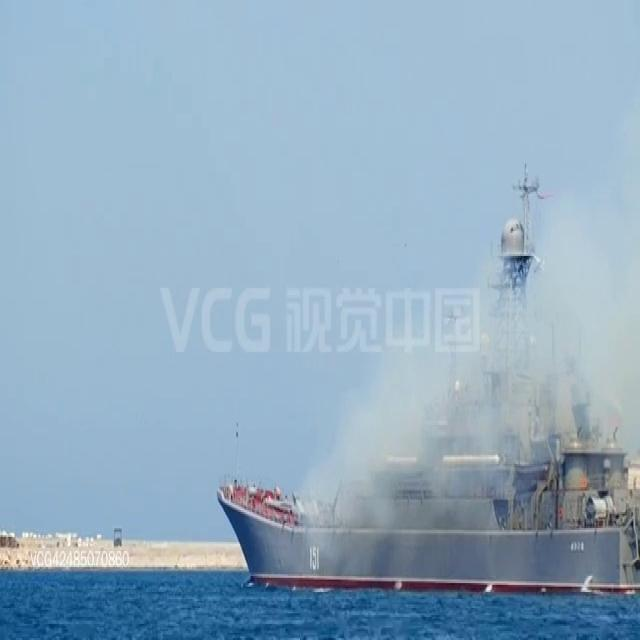navalvessels: (221, 223, 640, 603)
